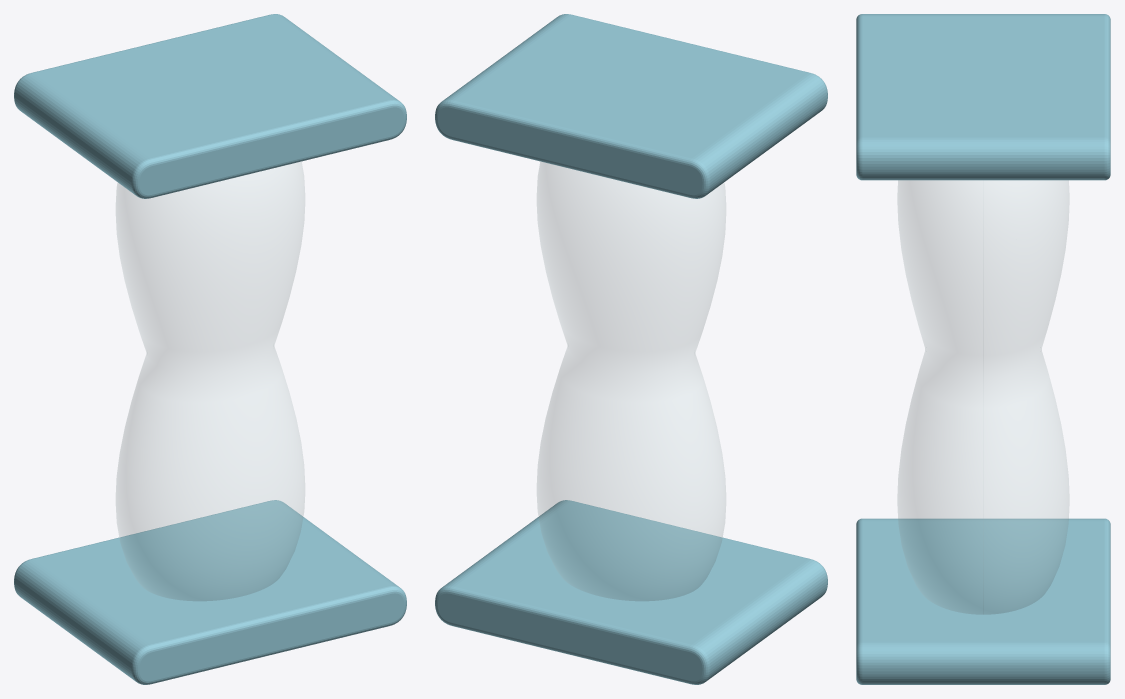
3 views of the same model, side by side, from view 1: azimuth 30°, elevation 25°; view 2: azimuth 150°, elevation 25°; view 3: azimuth 270°, elevation 25° (orthographic). The views are drawn at different scales.
Parts seen in each view (by area): view 1: capillary-neck, wet-boundary--0.93, wet-boundary-0.93; view 2: capillary-neck, wet-boundary--0.93, wet-boundary-0.93; view 3: capillary-neck, wet-boundary--0.93, wet-boundary-0.93.
Part boxes in pixels (left/top/right/bottom): capillary-neck: left=116, top=162, right=304, bottom=600; wet-boundary--0.93: left=14, top=500, right=406, bottom=684; wet-boundary-0.93: left=14, top=14, right=406, bottom=198; capillary-neck: left=537, top=162, right=725, bottom=600; wet-boundary--0.93: left=435, top=500, right=827, bottom=684; wet-boundary-0.93: left=435, top=14, right=827, bottom=198; capillary-neck: left=897, top=180, right=1069, bottom=614; wet-boundary--0.93: left=856, top=518, right=1110, bottom=684; wet-boundary-0.93: left=856, top=14, right=1110, bottom=180.
Size of the model in its own units: 1.1 by 2.01 by 0.85.
